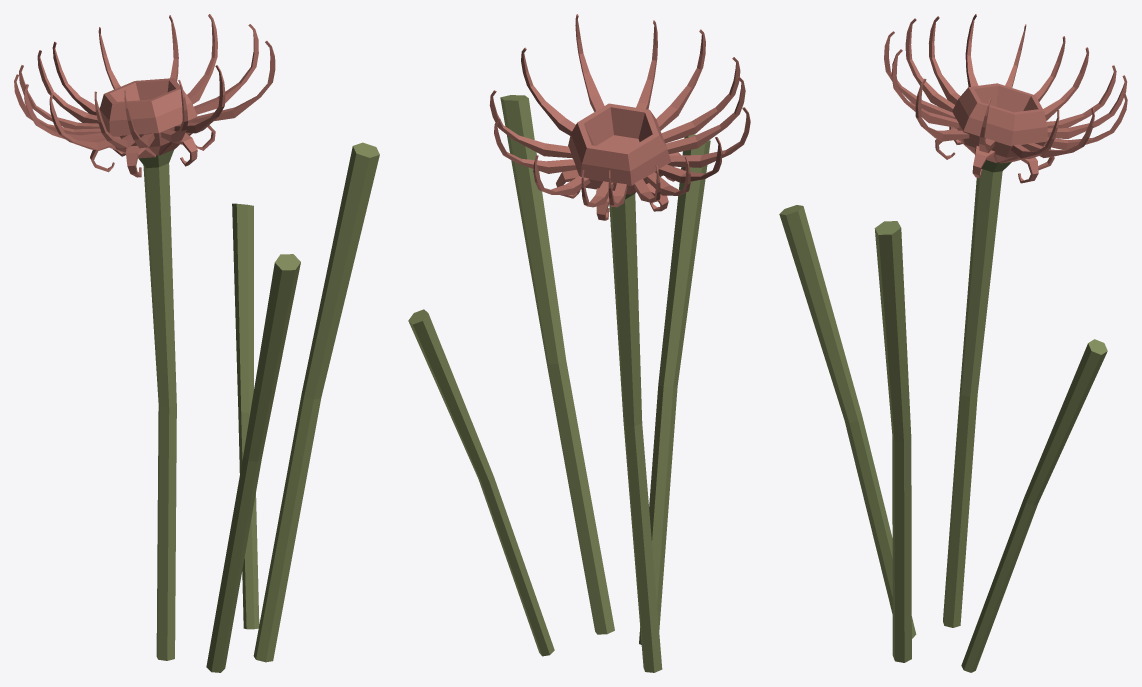
File: Flower of Death Harvested.fbx
3 views of the same model, side by side, from view 1: azimuth 30°, elevation 25°; view 2: azimuth 150°, elevation 25°; view 3: azimuth 270°, elevation 25° (orthographic). The views are drawn at different scales.
Visible parts, largest first — view 1: red_lily4; view 2: red_lily4; view 3: red_lily4.
Part boxes in pixels (x1,y1,x2,y2): red_lily4: (14, 14, 379, 672); red_lily4: (408, 14, 750, 672); red_lily4: (779, 14, 1127, 672).
Size of the model in its own units: 0.3747 by 0.7645 by 0.4102.
